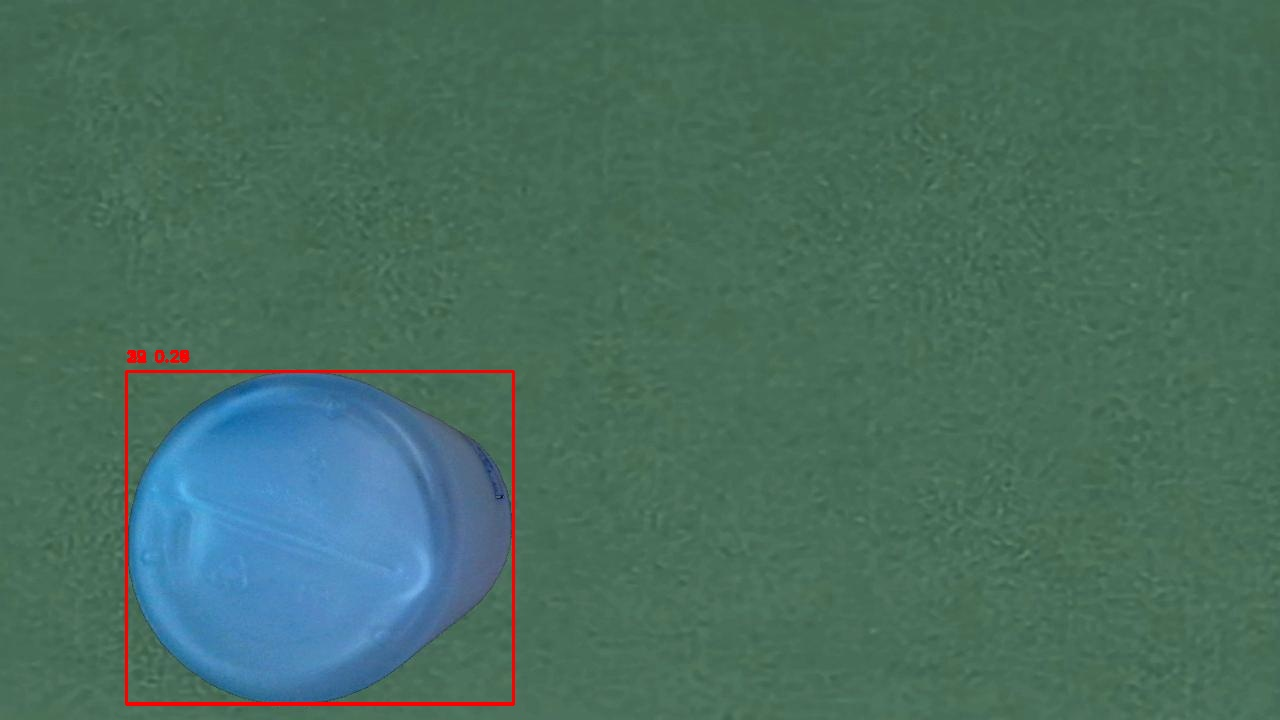cup: (126, 371, 513, 704), (126, 371, 513, 703)
